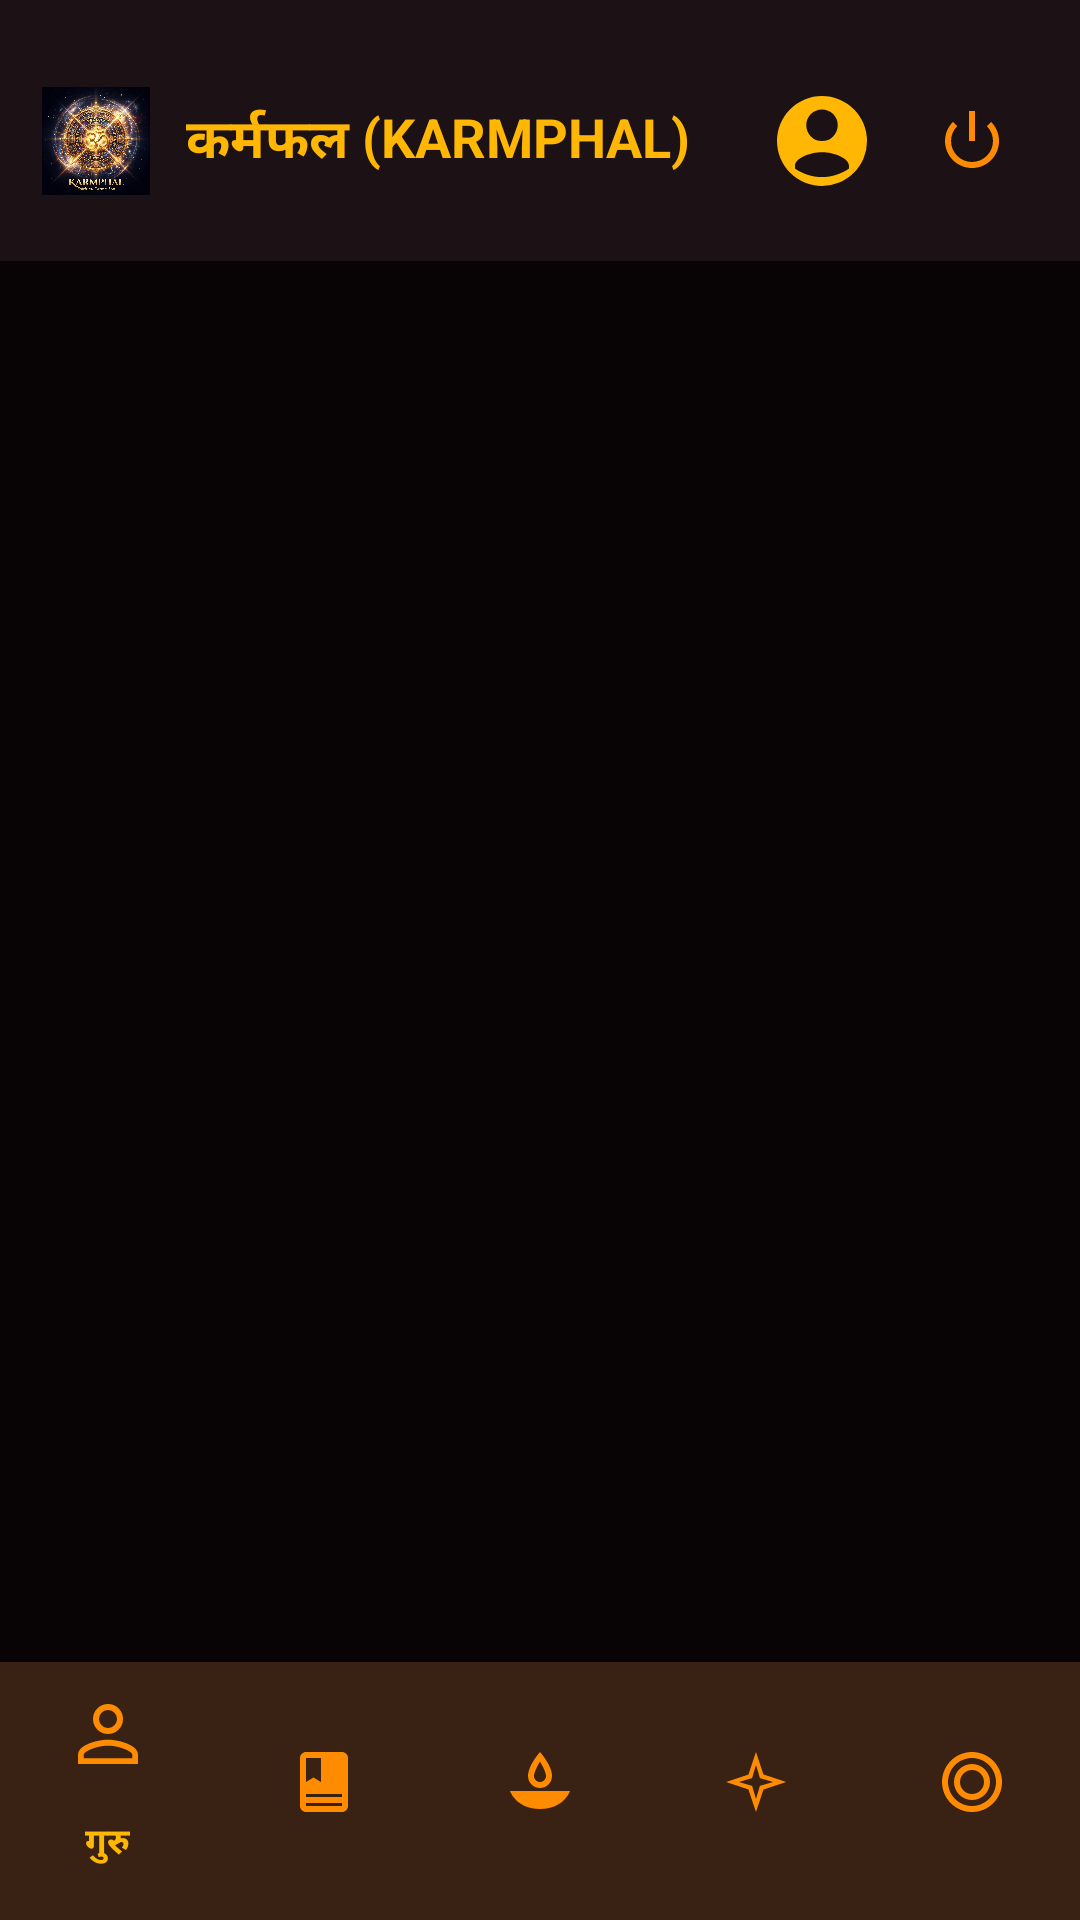

Where icons sit on this 1080 × 1920 app screen, as bbox(x1, y1, x2, y2):
User Profile: bbox(777, 96, 867, 186)
